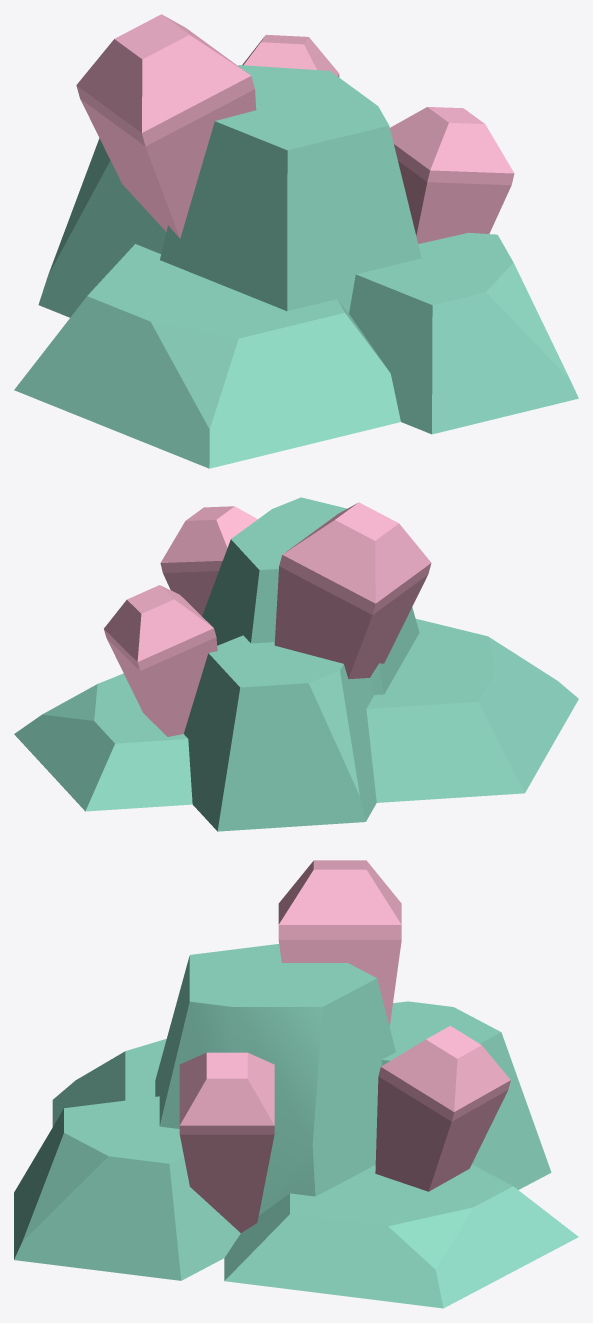
The model's file is detail_crystalLarge.gltf.
3 views of the same model, one above another, from view 1: azimuth 30°, elevation 25°; view 2: azimuth 150°, elevation 25°; view 3: azimuth 270°, elevation 25° (orthographic). The views are drawn at different scales.
Visible parts, largest first — view 1: rocks, crystal (×3); view 2: rocks, crystal (×3); view 3: rocks, crystal (×3).
Boxes of the visible parts, bbox=[...] form: rocks: bbox=[14, 65, 578, 468]; crystal (×3): bbox=[76, 14, 514, 243]; rocks: bbox=[14, 497, 578, 831]; crystal (×3): bbox=[104, 502, 431, 736]; rocks: bbox=[14, 944, 578, 1308]; crystal (×3): bbox=[179, 860, 510, 1232].
Size of the model in its own units: 1 by 0.5565 by 1.
